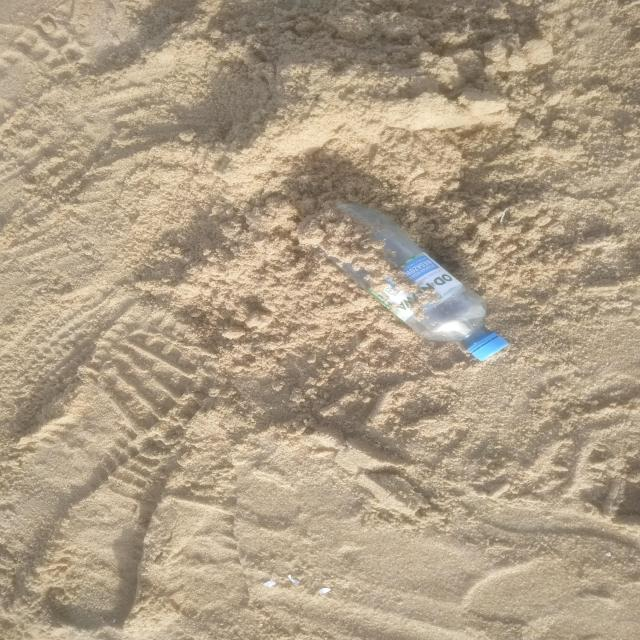litter: (293, 192, 511, 371)
